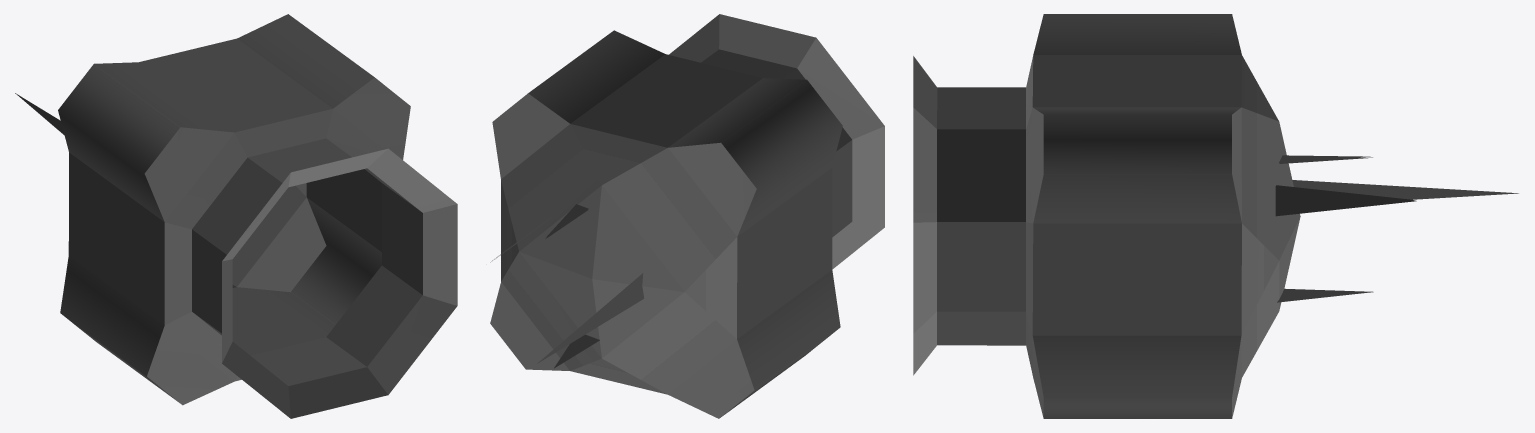
File: stat_bottom1.glb
The picture shows the model from 3 angles, left to right: view 1: azimuth 30°, elevation 25°; view 2: azimuth 150°, elevation 25°; view 3: azimuth 270°, elevation 25°; orthographic projection. The views are drawn at different scales.
Visible parts, largest first — view 1: group_19; view 2: group_19; view 3: group_19.
Part boxes in pixels (box(x1,y1,x2,y2)): group_19: box(15, 14, 457, 418); group_19: box(490, 14, 884, 418); group_19: box(913, 14, 1518, 418).
Bounding box in the file's own units: 8627 × 8627 × 15526.
Materials: 2 (2 with a texture image).
